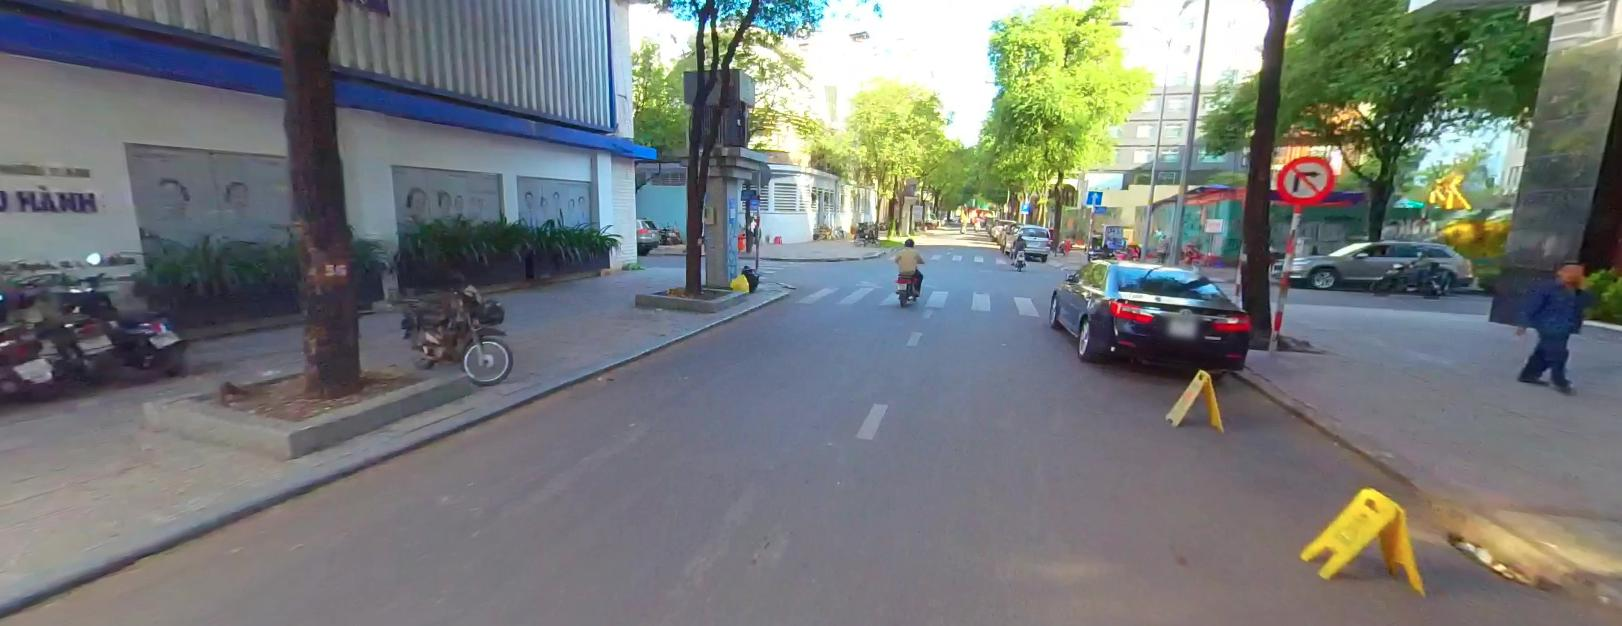Cam re: (1276, 155, 1334, 204)
